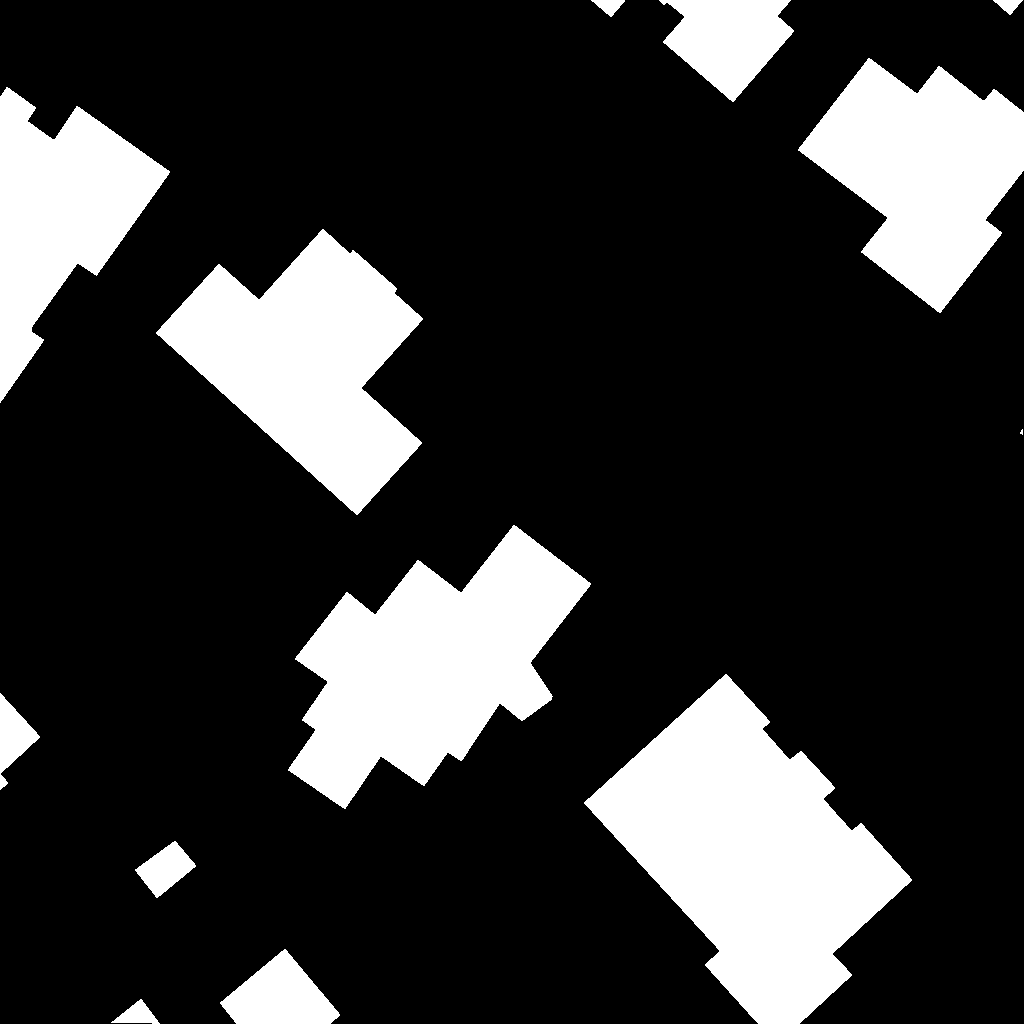building: (584, 674, 913, 1024), (288, 525, 592, 810), (156, 229, 424, 516), (798, 58, 1024, 314), (0, 87, 171, 404), (591, 0, 795, 103), (220, 949, 341, 1024), (0, 693, 41, 791), (135, 841, 197, 899), (111, 999, 161, 1024), (993, 0, 1024, 16), (1020, 429, 1024, 436)
